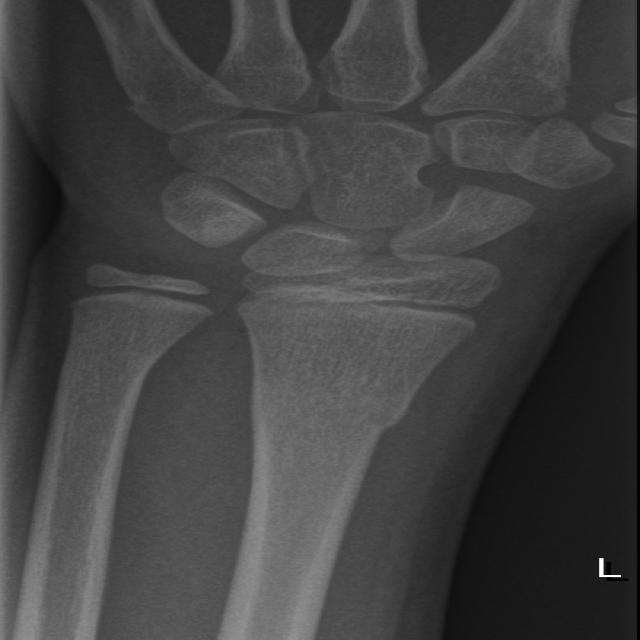radius fracture: (213, 353, 455, 458)
